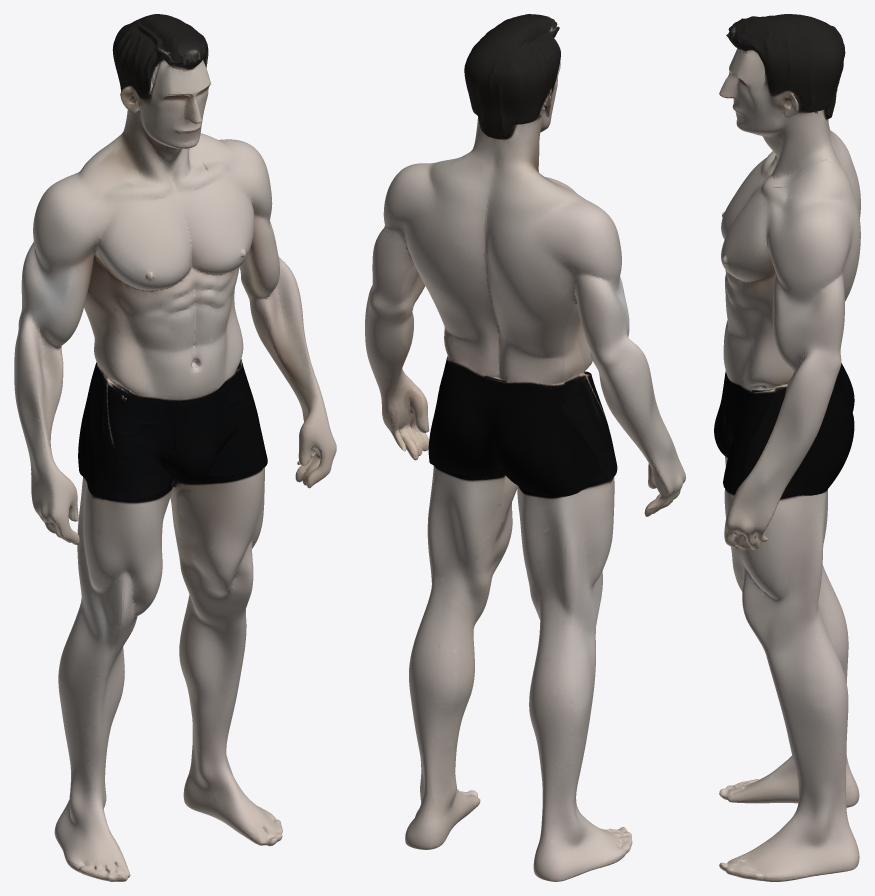
The model's file is avatar.glb.
3 renders of one model, left to right at view 1: azimuth 30°, elevation 25°; view 2: azimuth 150°, elevation 25°; view 3: azimuth 270°, elevation 25°, orthographic.
Parts seen in each view (by area): view 1: model; view 2: model; view 3: model.
Boxes of the visible parts, bbox=[...] form: model: bbox=[14, 14, 336, 881]; model: bbox=[365, 14, 685, 881]; model: bbox=[714, 14, 860, 881].
Bounding box in the file's own units: 0.705 × 1.9 × 0.3095.
1 material, 1 textured.
